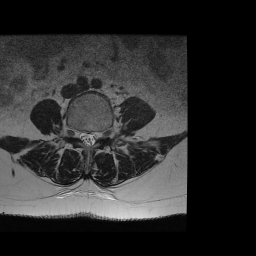CCS_normal: (85, 125, 91, 152)
LFS_normal: (97, 123, 103, 146)
LLS_normal: (91, 124, 97, 149)
RFS_normal: (72, 122, 79, 143)
RLS_normal: (79, 124, 85, 149)
